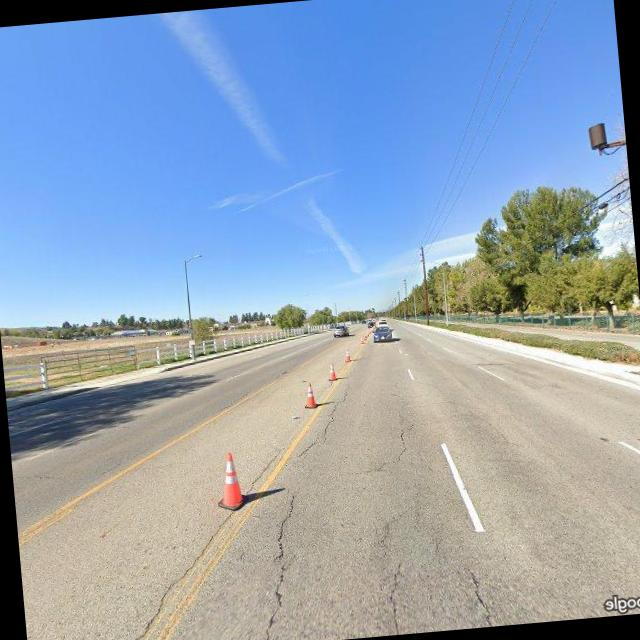pothole: (110, 442, 303, 640), (246, 489, 311, 640), (292, 377, 358, 458), (357, 417, 424, 474), (378, 558, 414, 634), (464, 561, 499, 626)
